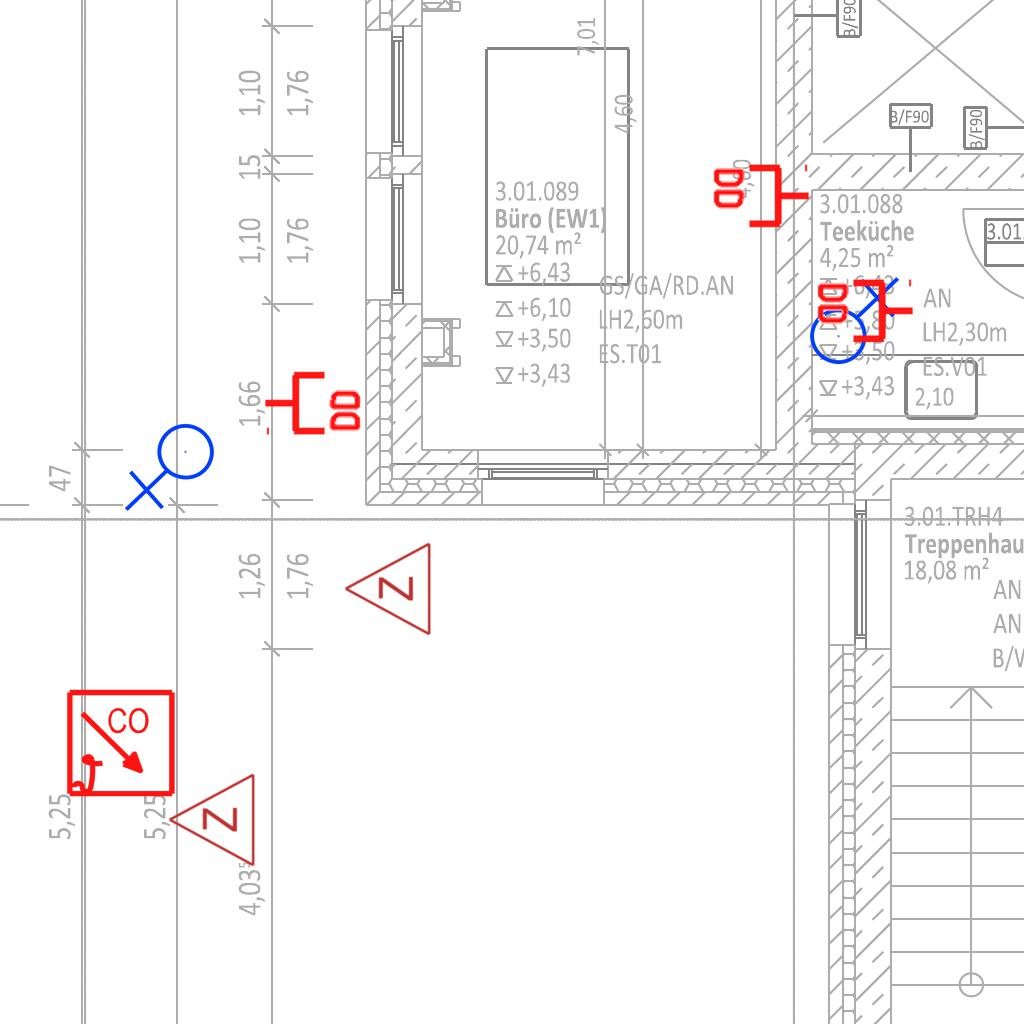Datenanschluss_zweifach: (709, 163, 812, 232), (262, 367, 365, 436), (813, 278, 916, 347)
Elektroanschluss_allgemein_230V_Geraeteanschlussdose_230V: (801, 272, 900, 366), (124, 422, 223, 516)
ROA_Rauchmelder_optisch_mit_Signalgeber_(Sockelsirene): (65, 688, 178, 801)
Zimmersignalleuchte: (338, 541, 438, 639), (162, 772, 262, 870)
